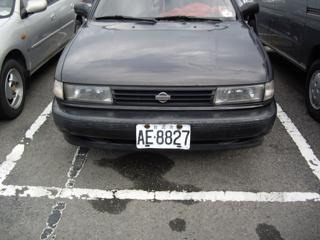plate: (134, 122, 193, 152)
